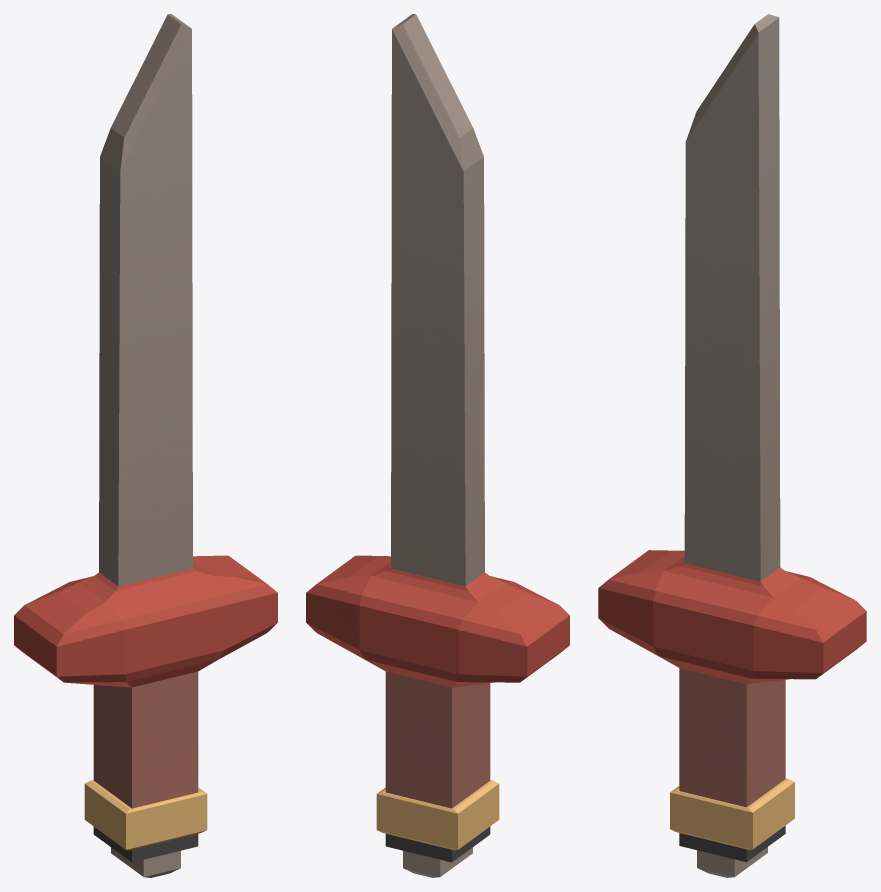
The model's file is sword.fbx.
3 views of the same model, side by side, from view 1: azimuth 30°, elevation 25°; view 2: azimuth 150°, elevation 25°; view 3: azimuth 330°, elevation 25° (orthographic).
Parts seen in each view (by area): view 1: Sword; view 2: Sword; view 3: Sword.
Part boxes in pixels (bbox=[...]): Sword: bbox=[14, 14, 277, 877]; Sword: bbox=[306, 14, 569, 877]; Sword: bbox=[598, 14, 866, 877].
Size of the model in its own units: 64.08 by 232 by 28.78.
